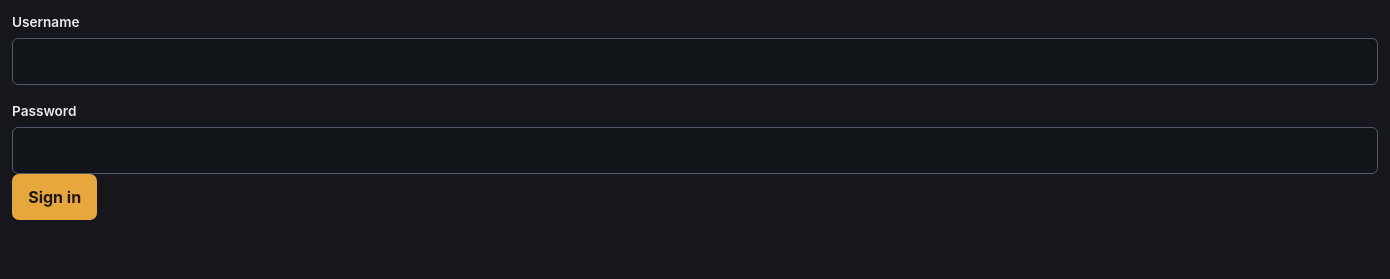
Test: login form in Chromium › identifies a missing username and clears that error when the draft changes
Later steps or results of the test are not shown.
# Real browser controls prove error announcements and first-field focus remain coordinated.
Type "exact secret" into the password field labelled "Password" at (695, 150), box [12,127,1378,174]
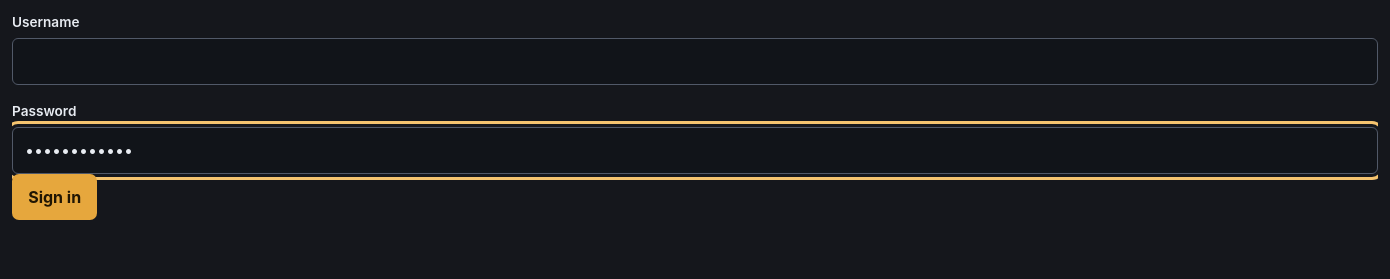
Click the button "Sign in" at (55, 197), box [12,174,97,220]
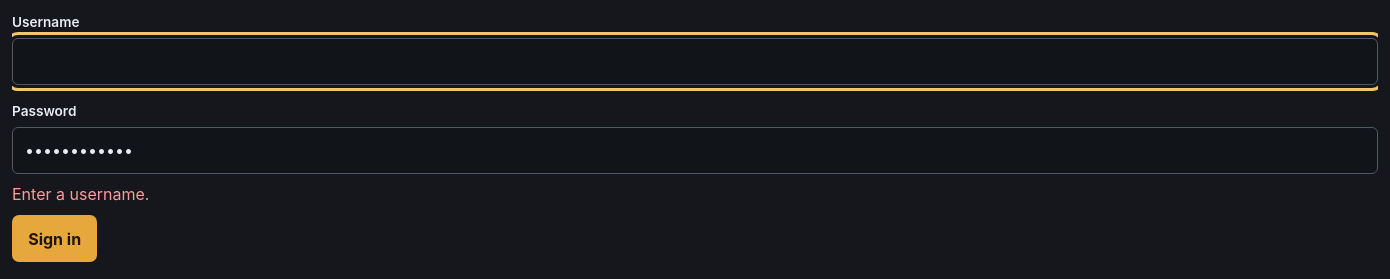
Now the message reads "Enter a username.", box [12,184,149,204]
